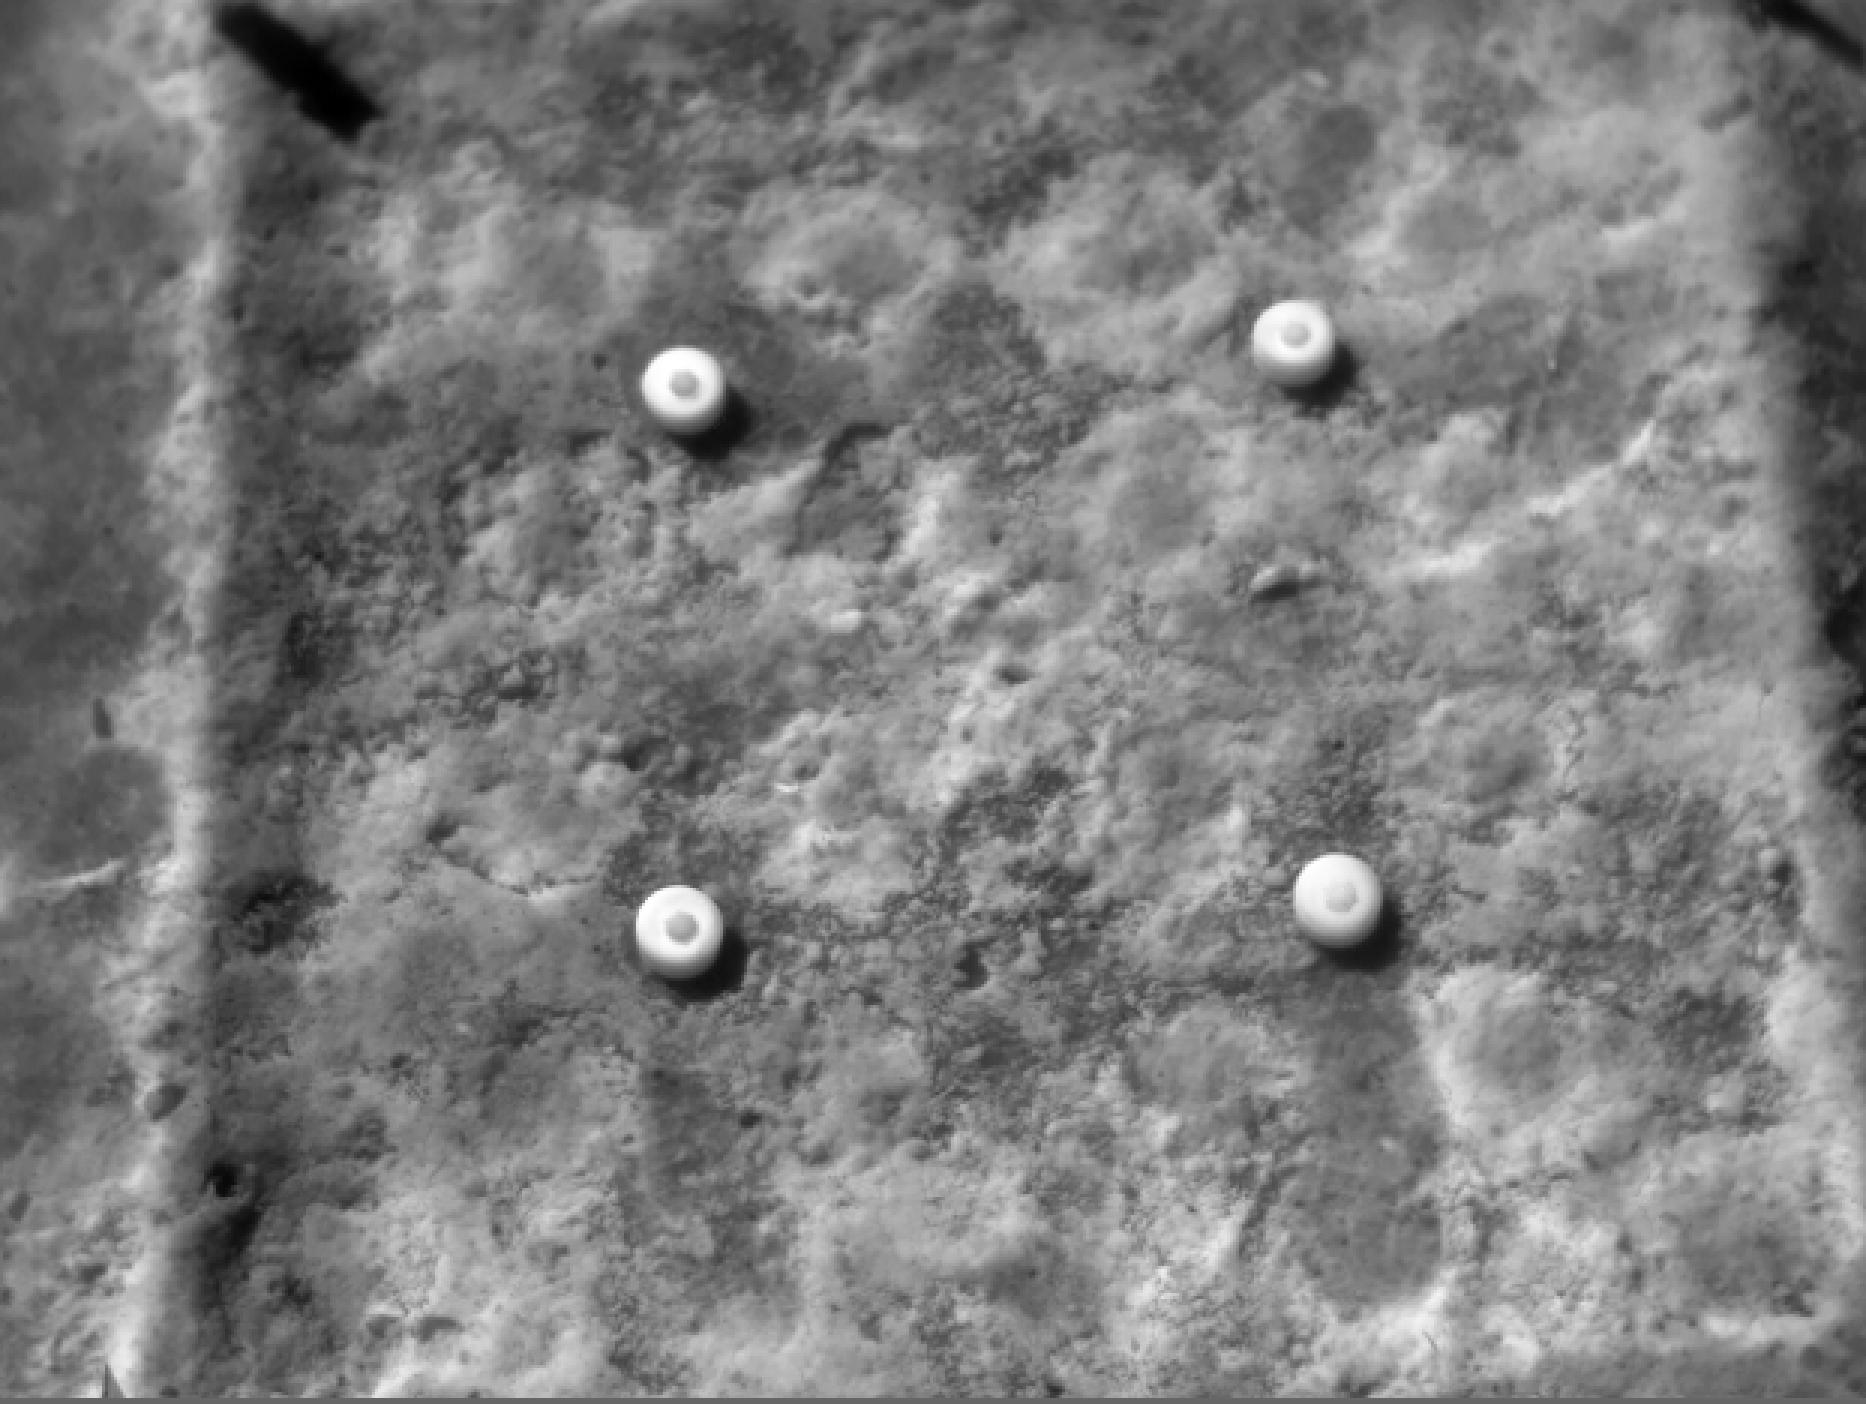mines-gjV8: (1295, 848, 1376, 948), (1252, 295, 1344, 383), (634, 886, 726, 970), (648, 348, 729, 428)
